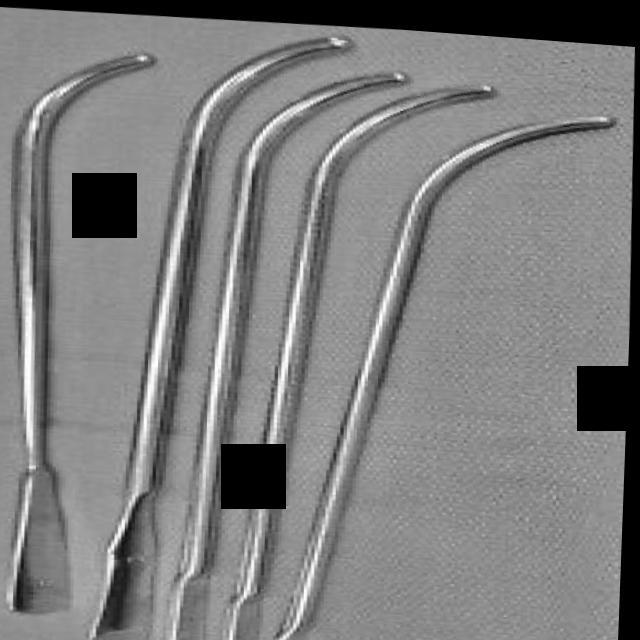Urethral Dilators: (214, 73, 638, 640), (181, 53, 514, 640), (68, 7, 354, 640), (136, 42, 415, 640), (0, 32, 164, 636)
